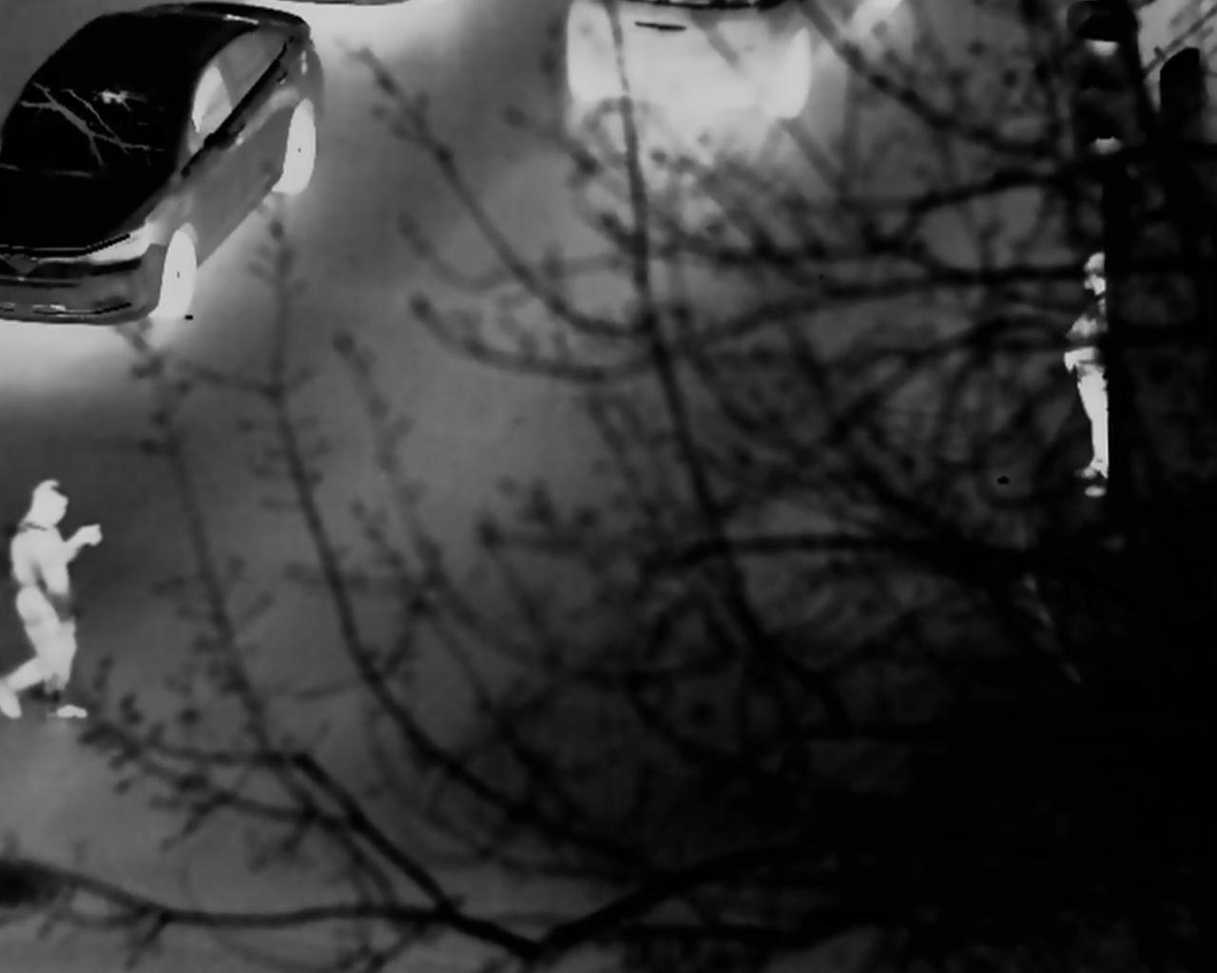person: (11, 486, 115, 747), (1072, 240, 1109, 511)
